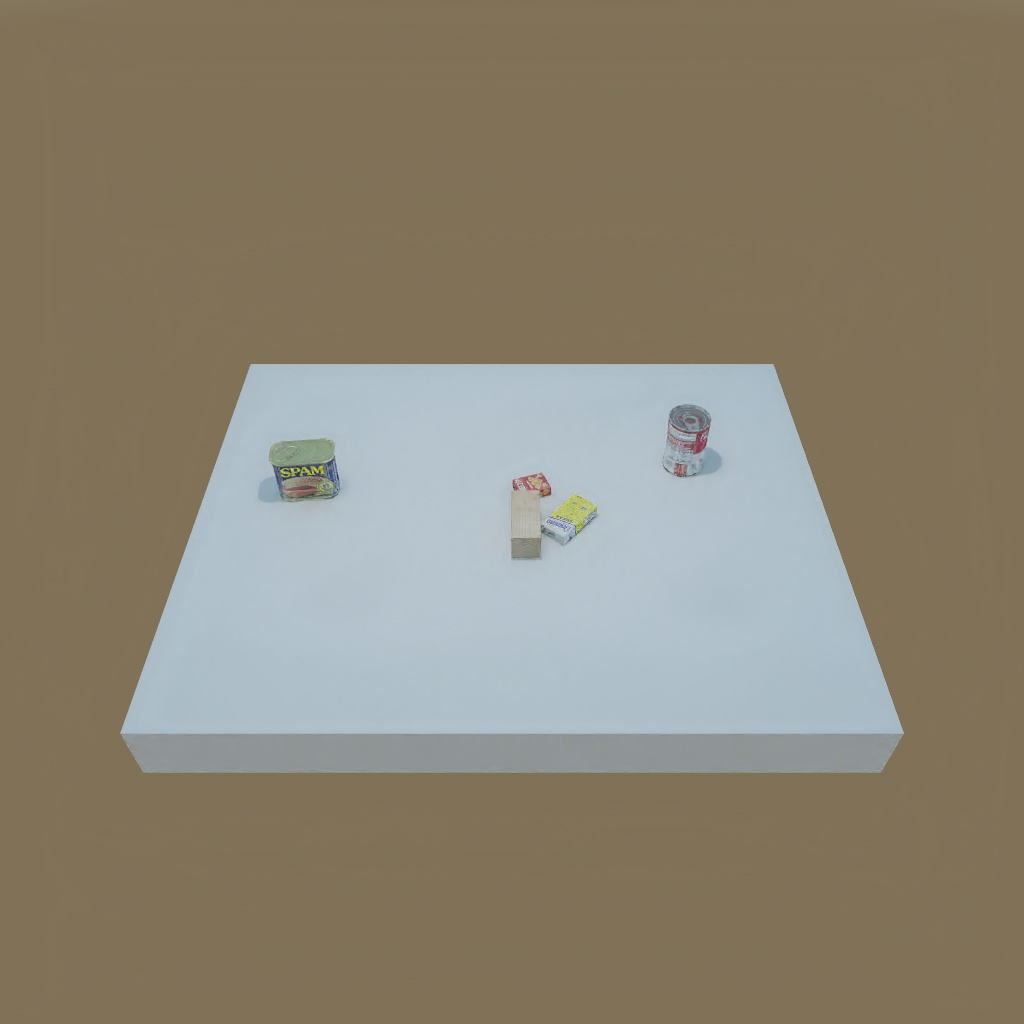potted_meat_can: (267, 437, 344, 502)
tomato_soup_can: (663, 404, 710, 477)
wood_block: (503, 494, 548, 561)
